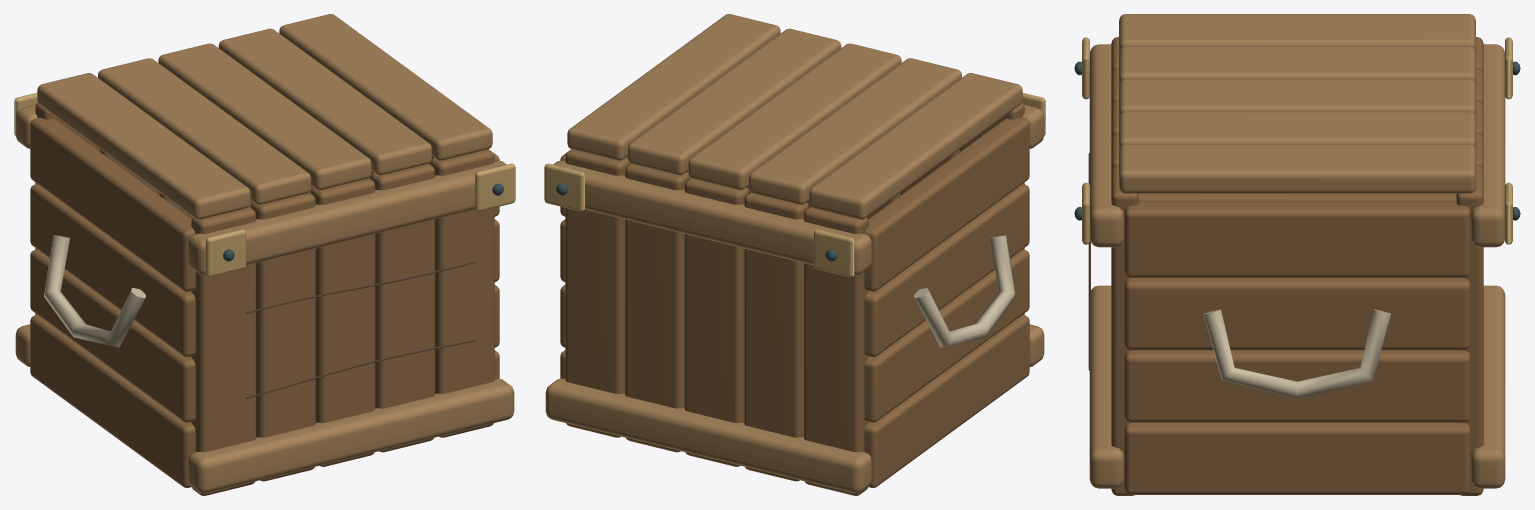
Rendered from oak_crate_atelier.glb.
3 views of the same model, side by side, from view 1: azimuth 30°, elevation 25°; view 2: azimuth 150°, elevation 25°; view 3: azimuth 270°, elevation 25° (orthographic). The views are drawn at different scales.
Parts seen in each view (by area): view 1: oak_crate_atelier__TaggedPainted_Crate_Matte, oak_crate_atelier__Painted_Crate_Metal; view 2: oak_crate_atelier__TaggedPainted_Crate_Matte, oak_crate_atelier__Painted_Crate_Metal; view 3: oak_crate_atelier__TaggedPainted_Crate_Matte, oak_crate_atelier__Painted_Crate_Metal.
Boxes of the visible parts, x1,y1,x2,y2 form: oak_crate_atelier__TaggedPainted_Crate_Matte: (15, 14, 514, 495); oak_crate_atelier__Painted_Crate_Metal: (14, 93, 515, 277); oak_crate_atelier__TaggedPainted_Crate_Matte: (545, 14, 1044, 495); oak_crate_atelier__Painted_Crate_Metal: (544, 93, 1045, 277); oak_crate_atelier__TaggedPainted_Crate_Matte: (1088, 14, 1505, 495); oak_crate_atelier__Painted_Crate_Metal: (1074, 37, 1520, 244).
Bounding box in the file's own units: 0.9227 × 0.676 × 0.838.
